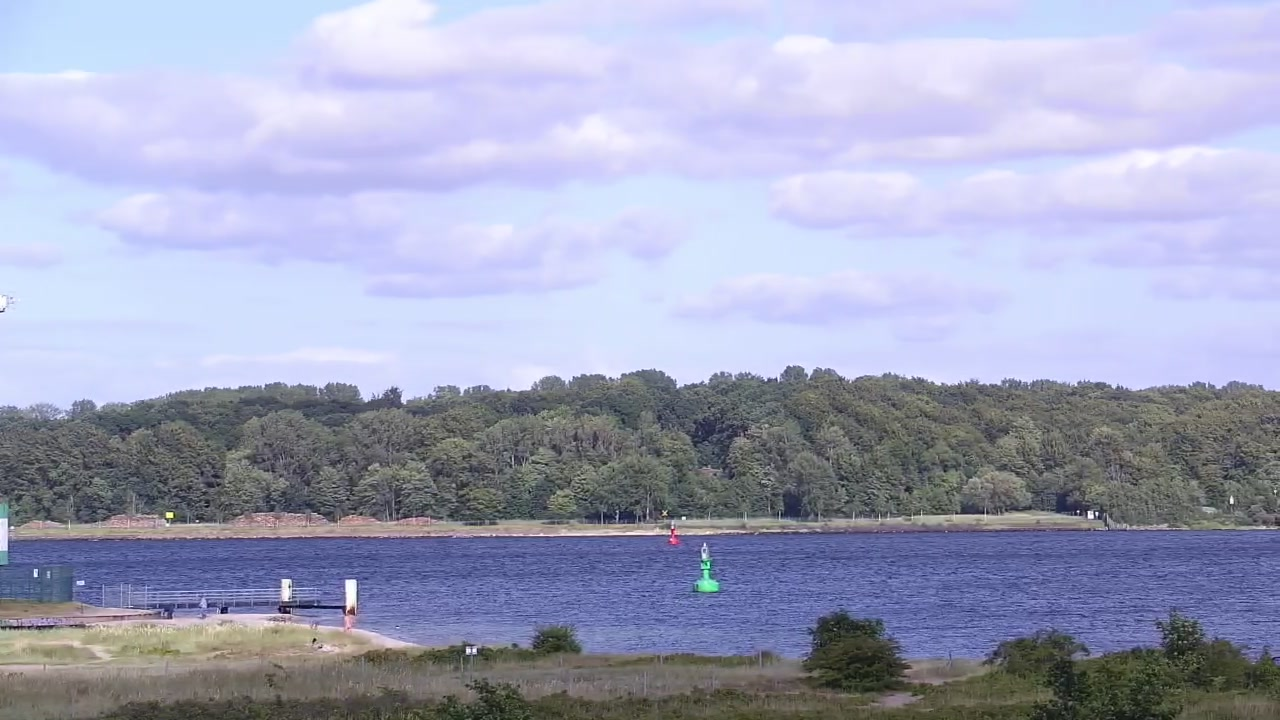human: (198, 595, 208, 619)
